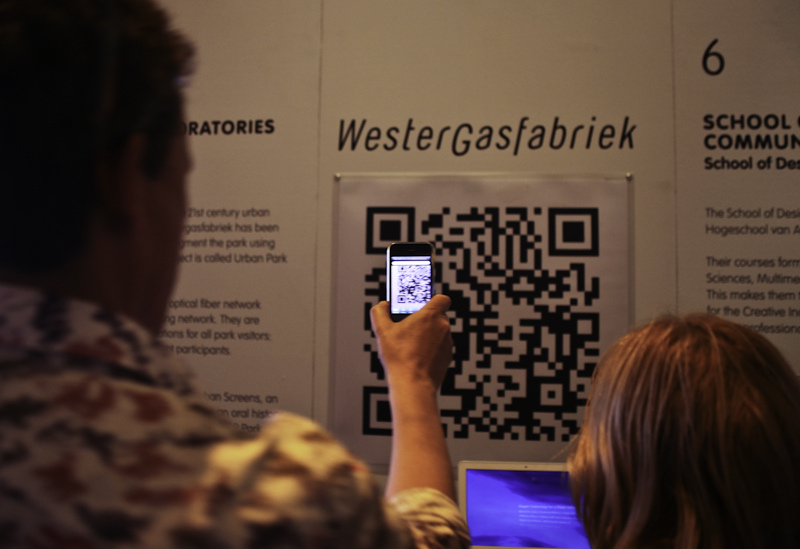QR-CODE: (362, 206, 599, 441), (397, 266, 430, 302)
